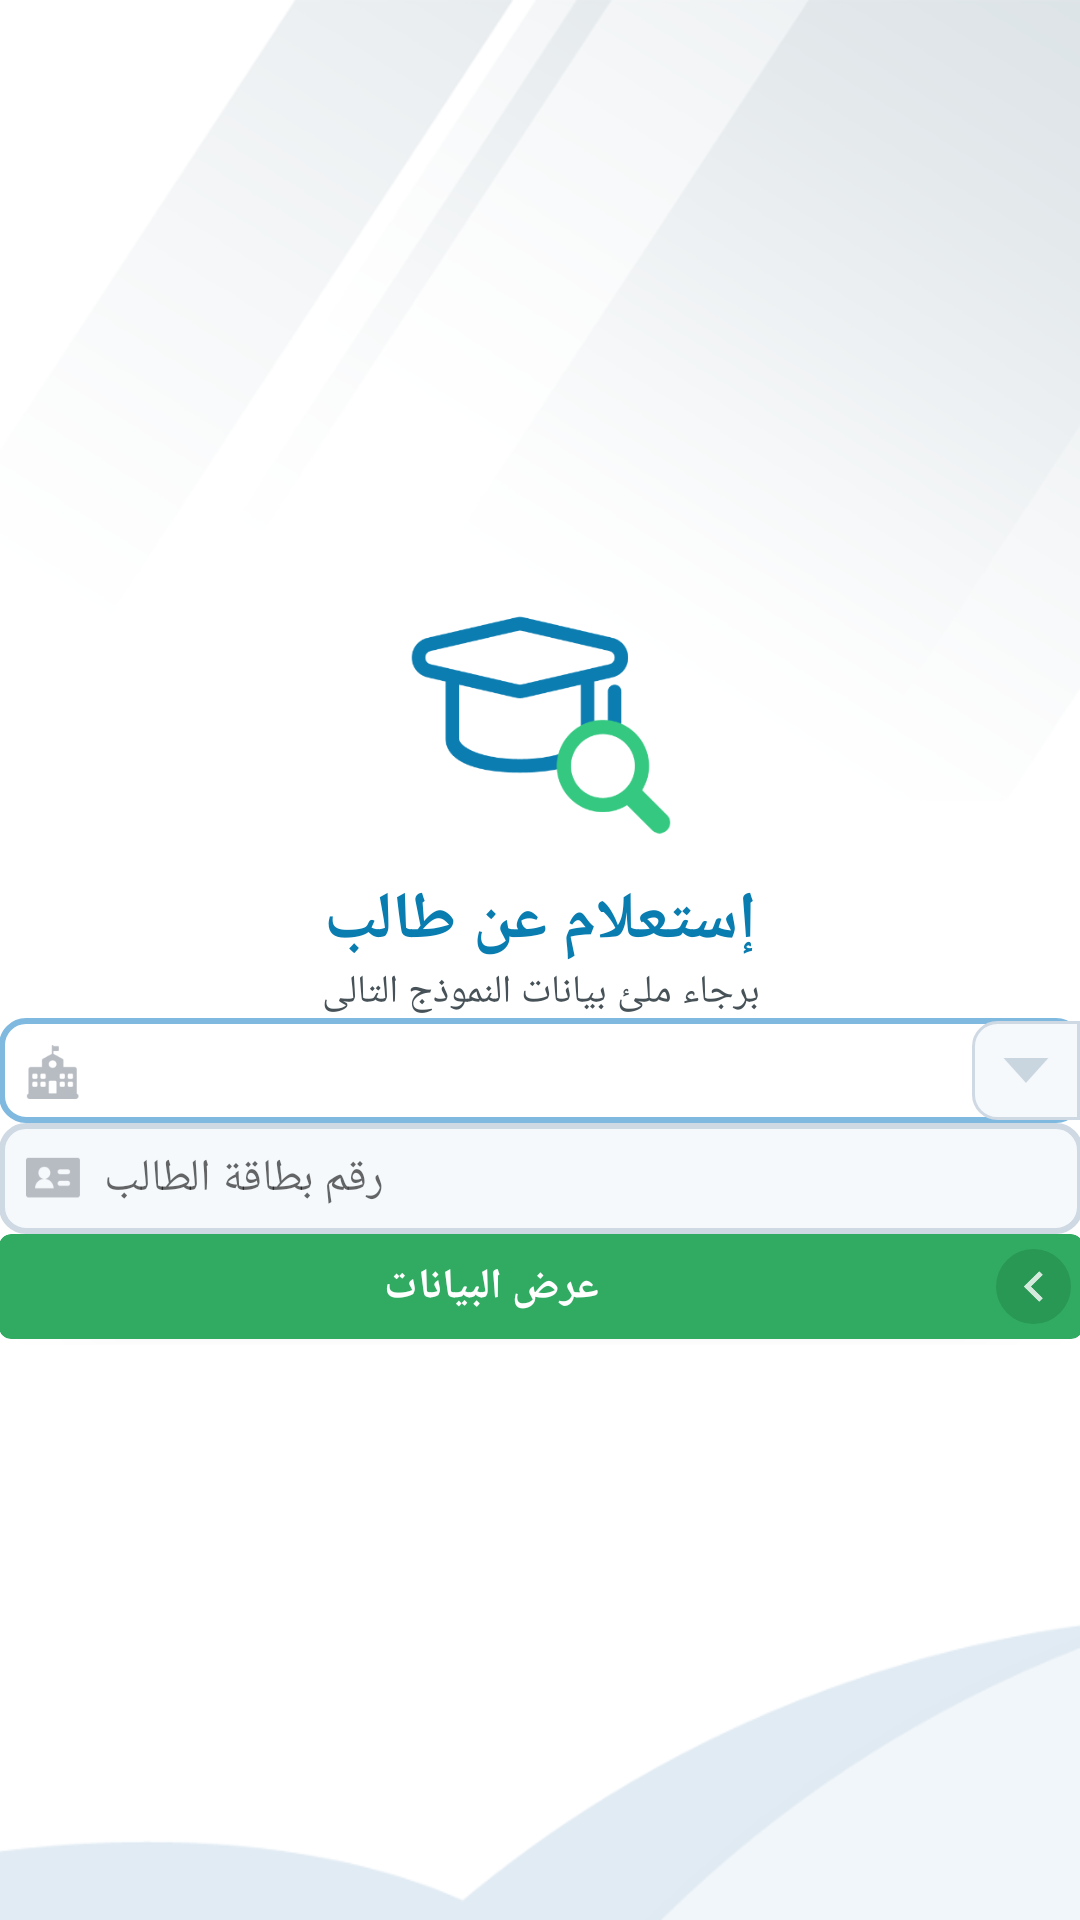

Screen size 1080px x 1920px. Icon name, then its center in pixels as point (x, y):
pro arrow: point (1033, 1286)
sco select arrow: point (1026, 1070)
se pageicon: point (541, 725)
se stu card: point (53, 1178)
